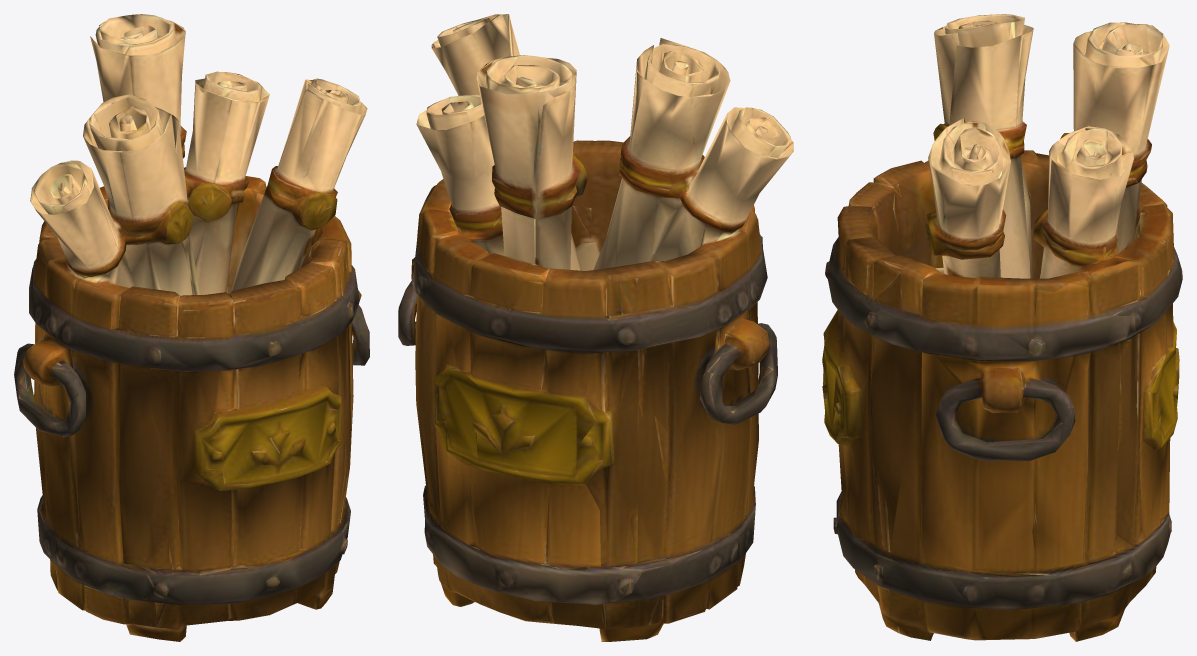
File: scroll-barrel.glb
The picture shows the model from 3 angles, left to right: view 1: azimuth 30°, elevation 25°; view 2: azimuth 150°, elevation 25°; view 3: azimuth 270°, elevation 25°; orthographic projection. The views are drawn at different scales.
Parts seen in each view (by area): view 1: Mesh1.0; view 2: Mesh1.0; view 3: Mesh1.0.
Boxes of the visible parts, x1,y1,x2,y2 form: Mesh1.0: [14, 14, 369, 641]; Mesh1.0: [398, 14, 793, 641]; Mesh1.0: [822, 14, 1182, 641].
Bounding box in the file's own units: 1.27 × 1.9 × 1.12.
Materials: 1 (1 with a texture image).
